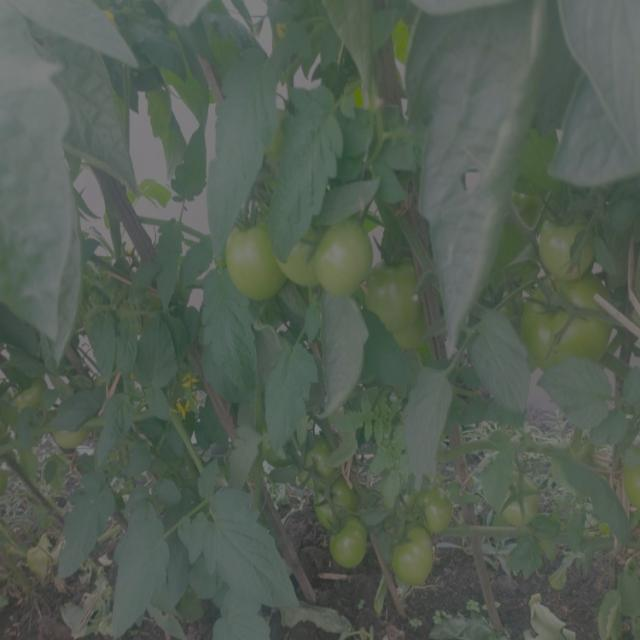tomato: (521, 286, 616, 370), (535, 212, 608, 283), (315, 224, 377, 297), (226, 217, 283, 295), (390, 524, 436, 583), (492, 473, 543, 526), (324, 521, 374, 570), (386, 262, 422, 327), (306, 482, 359, 515), (304, 438, 344, 478), (408, 489, 455, 521), (286, 231, 312, 284), (262, 429, 297, 466), (46, 423, 92, 448), (14, 376, 48, 407), (267, 110, 289, 155), (624, 457, 640, 511)
